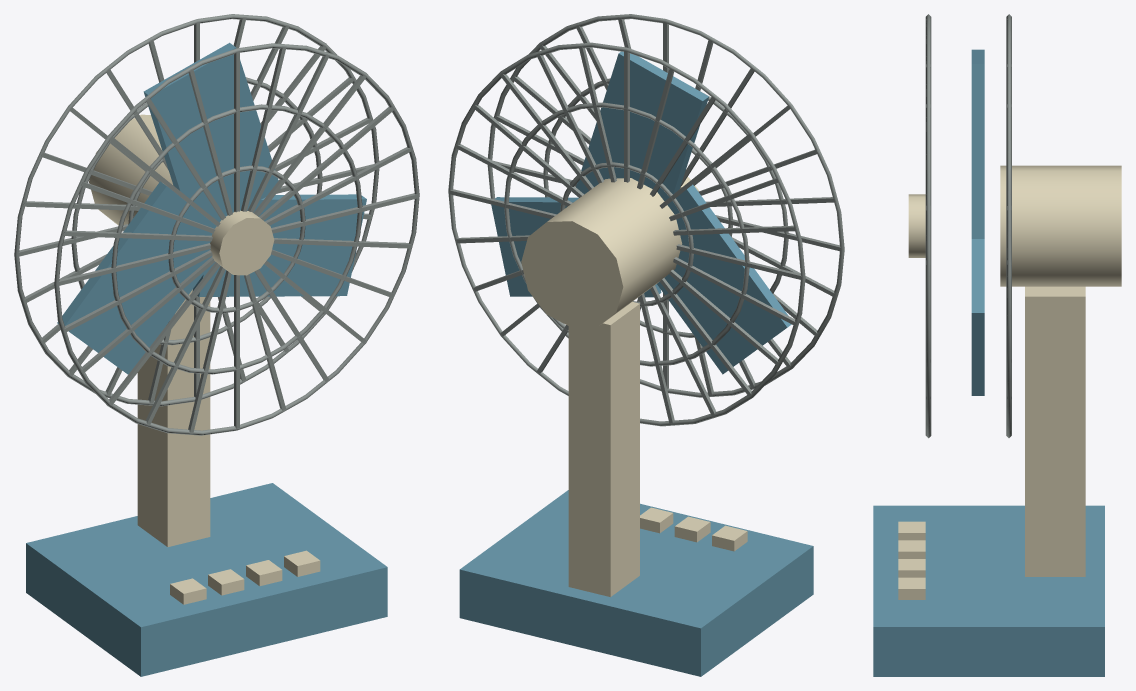
The model's file is deskFan.glb.
The picture shows the model from 3 angles, left to right: view 1: azimuth 30°, elevation 25°; view 2: azimuth 150°, elevation 25°; view 3: azimuth 270°, elevation 25°; orthographic projection. The views are drawn at different scales.
Parts seen in each view (by area): view 1: base, guard-spoke (×22), blade (×3), guard-ring (×5), neck, motor, front-cap, speed-button (×4); view 2: base, guard-spoke (×21), blade (×3), neck, motor, guard-ring (×5), speed-button (×3); view 3: base, neck, motor, guard-ring (×2), blade (×2), speed-button (×4), front-cap.
Boxes of the visible parts, box(x1,y1,x2,y2) form: base: box(26, 483, 387, 676); guard-spoke (×22): box(18, 17, 417, 433); blade (×3): box(57, 42, 366, 374); guard-ring (×5): box(14, 14, 419, 435); neck: box(137, 289, 210, 546); motor: box(89, 114, 172, 225); front-cap: box(210, 210, 274, 275); speed-button (×4): box(170, 550, 320, 604); base: box(459, 490, 813, 676); guard-spoke (×21): box(450, 22, 840, 424); blade (×3): box(491, 51, 791, 374); neck: box(568, 302, 639, 596); motor: box(521, 178, 682, 327); guard-ring (×5): box(448, 14, 844, 426); speed-button (×3): box(640, 507, 747, 551); base: box(873, 505, 1104, 676); neck: box(1025, 286, 1085, 576); motor: box(1000, 165, 1121, 286); guard-ring (×2): box(925, 14, 1011, 438); blade (×2): box(971, 49, 984, 395); speed-button (×4): box(898, 521, 925, 599); front-cap: box(908, 194, 925, 257).
Size of the model in its own units: 0.385 by 0.5825 by 0.225.
